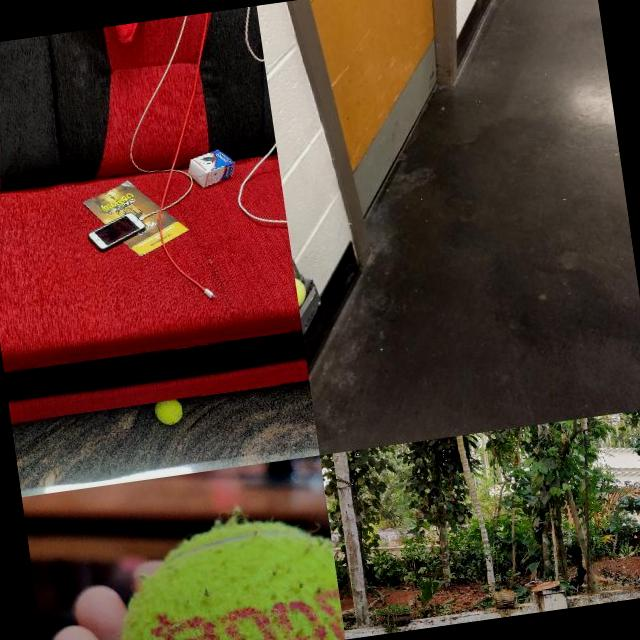Tennis Ball: (102, 510, 345, 640), (154, 400, 185, 427), (296, 274, 310, 310)
